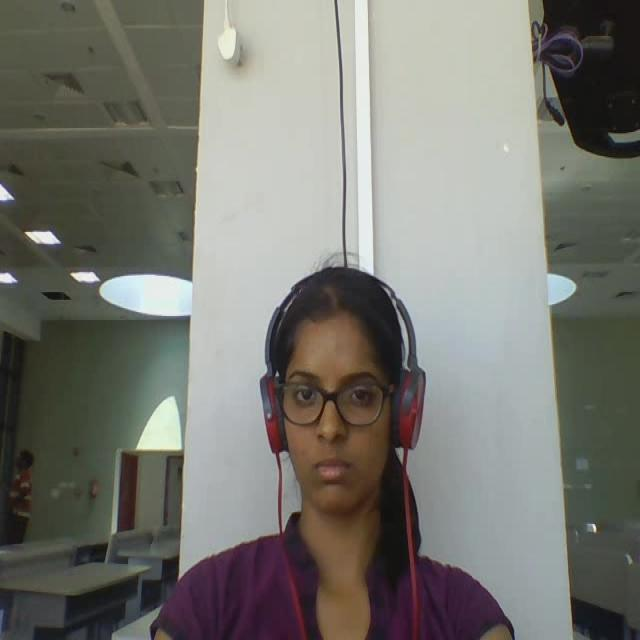Engaged: (239, 263, 452, 559)
